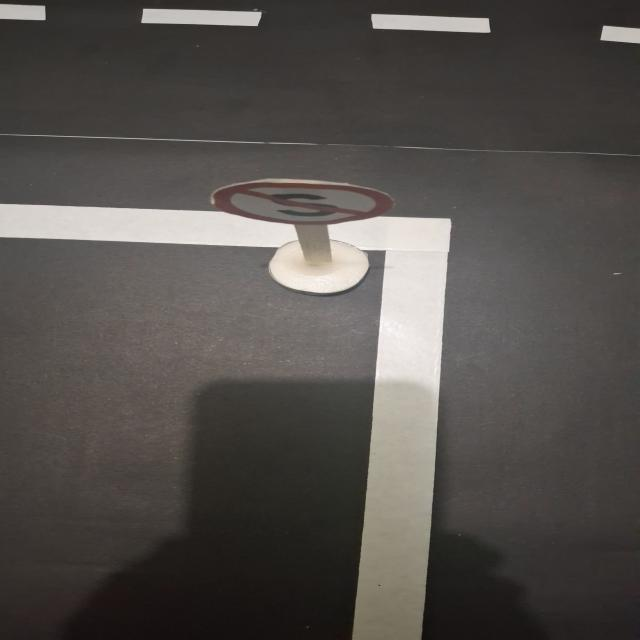Rambu Berhenti: (212, 181, 394, 225)
